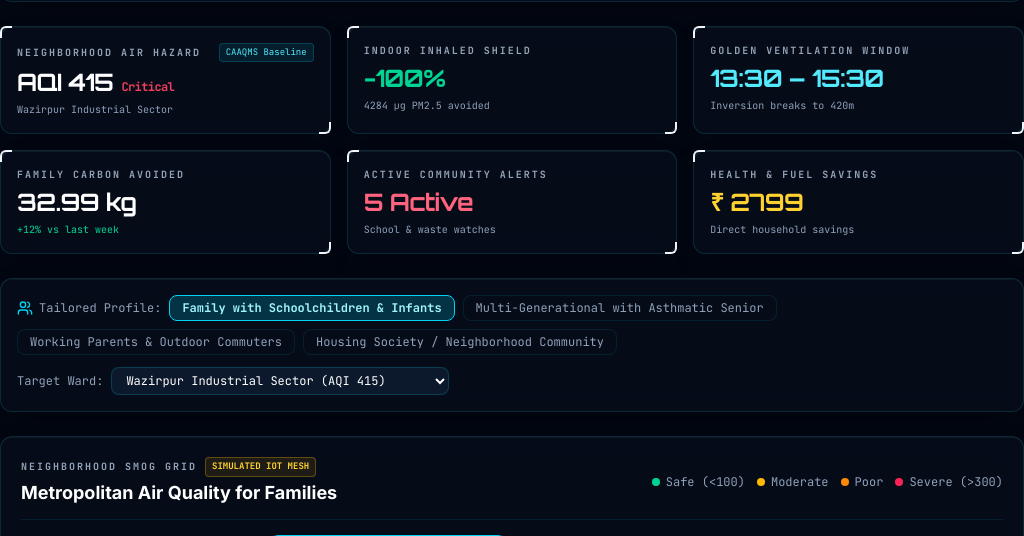
CommandCenter › changes the target ward from the toolbar select
(page scrolled)
Select "Dwarka Sector 8 Sub-City (AQI 220)" in the dropdown named "Select target monitoring ward". click: [280, 381]
box: [111,367,449,395]
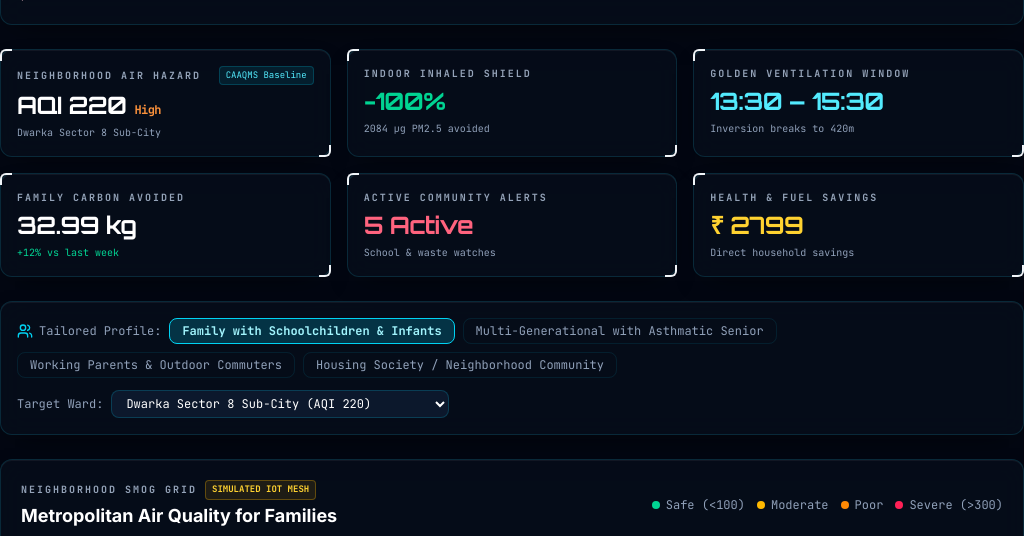
Now the text "Dwarka Sector 8 Sub-City" is shown, box [17,126,161,139]
